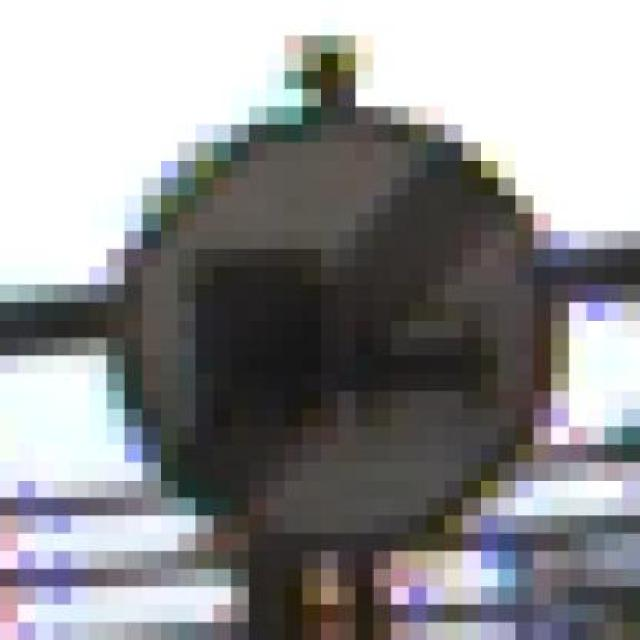Overtaking by trucks is prohibited: (36, 53, 586, 587)
